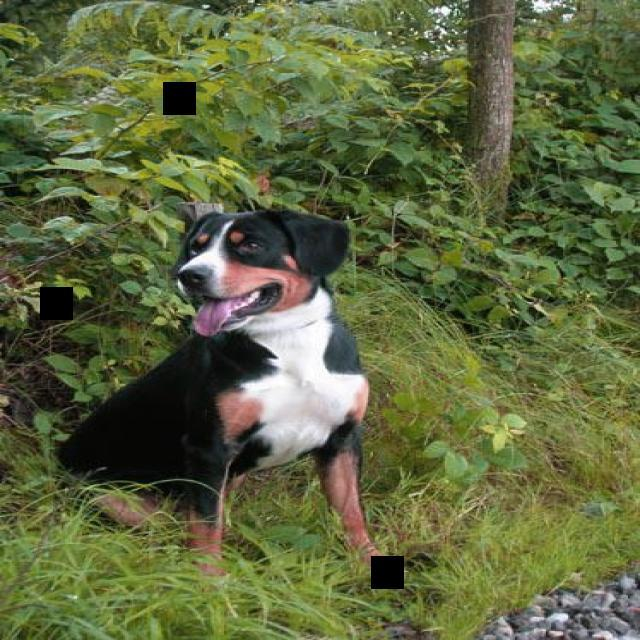adult_dog: (53, 206, 379, 575)
